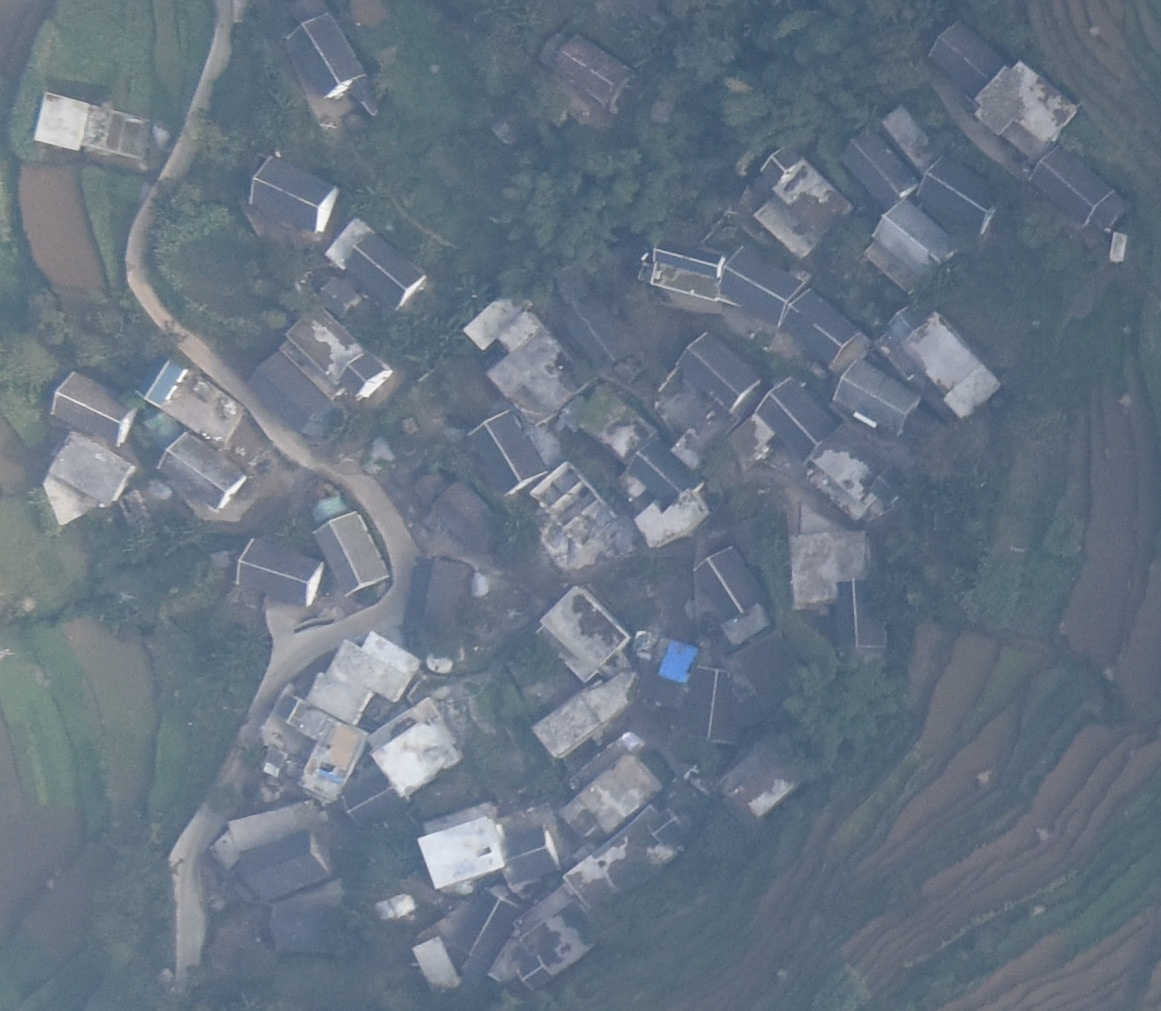building: (568, 809, 694, 918), (464, 299, 571, 401), (902, 311, 1002, 416), (309, 632, 423, 724), (271, 696, 369, 797), (287, 306, 387, 400), (537, 586, 630, 687), (369, 700, 461, 800), (532, 675, 643, 756), (514, 898, 608, 990), (559, 756, 663, 838), (974, 62, 1078, 143), (759, 145, 853, 232), (34, 90, 148, 157), (1028, 145, 1117, 229), (817, 439, 911, 518), (236, 831, 339, 902), (677, 331, 763, 416), (468, 410, 550, 498), (286, 13, 367, 101), (919, 155, 1009, 234), (51, 370, 144, 446), (248, 353, 335, 434), (248, 155, 339, 232), (758, 377, 841, 461), (158, 431, 245, 511), (720, 244, 804, 326), (311, 512, 392, 595), (787, 530, 872, 609), (781, 289, 863, 370), (48, 434, 139, 506), (833, 360, 922, 431), (931, 18, 1013, 94), (840, 130, 920, 207), (873, 200, 954, 276), (554, 35, 637, 109), (236, 538, 323, 608), (343, 233, 425, 307), (417, 818, 505, 886), (429, 480, 506, 557), (450, 889, 520, 966), (695, 544, 766, 619), (754, 195, 834, 259), (686, 666, 743, 747), (223, 803, 327, 845), (408, 557, 465, 633), (835, 581, 890, 650), (502, 826, 562, 886), (653, 239, 724, 279), (412, 937, 460, 996), (135, 355, 187, 407), (318, 276, 362, 318)
